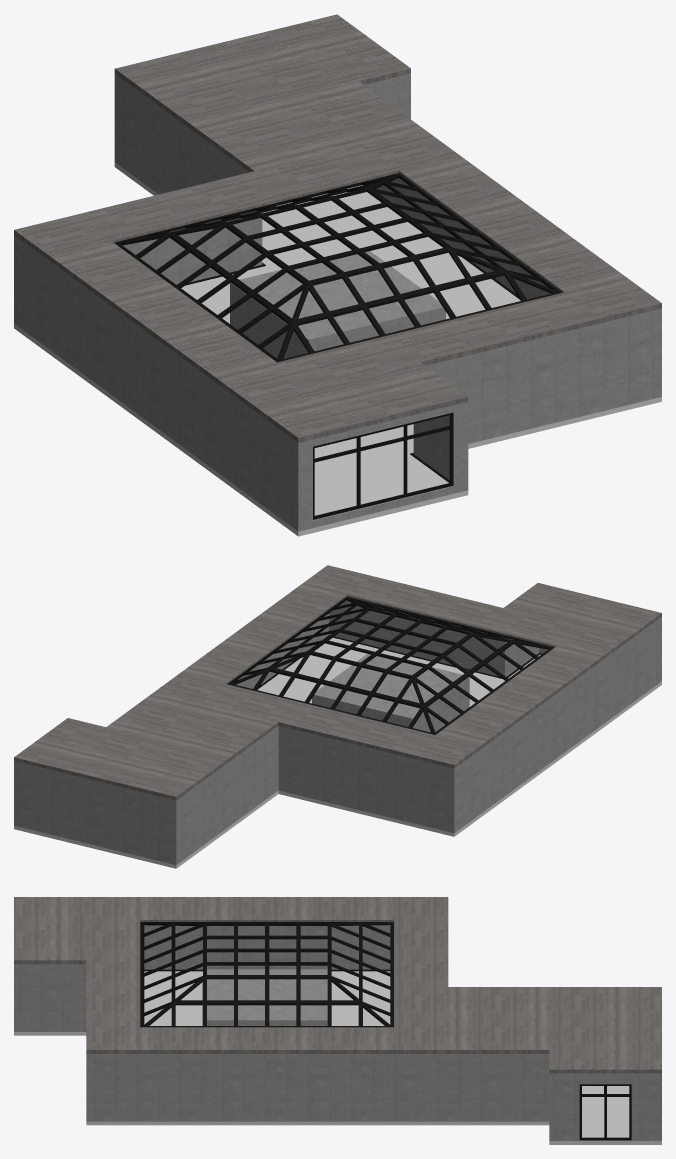
File: Gallery_2.FBX
The picture shows the model from 3 angles, top to bottom: view 1: azimuth 30°, elevation 25°; view 2: azimuth 150°, elevation 25°; view 3: azimuth 270°, elevation 25°; orthographic projection. The views are drawn at different scales.
Parts seen in each view (by area): view 1: Ceiling001, Wall001, Etc002, floor001; view 2: Wall001, Ceiling001, Etc002, floor001; view 3: Wall001, Ceiling001, Etc002, floor001.
Part boxes in pixels (x1,y1,x2,y2): Ceiling001: [14, 14, 661, 442]; Wall001: [14, 73, 661, 531]; Etc002: [114, 173, 561, 519]; floor001: [14, 162, 661, 536]; Wall001: [14, 600, 661, 864]; Ceiling001: [14, 565, 661, 800]; Etc002: [227, 597, 554, 734]; floor001: [14, 637, 661, 868]; Wall001: [14, 925, 661, 1140]; Ceiling001: [14, 897, 661, 1073]; Etc002: [140, 922, 631, 1140]; floor001: [14, 971, 661, 1144].
Size of the model in its own units: 19.62 by 5.26 by 31.14.
